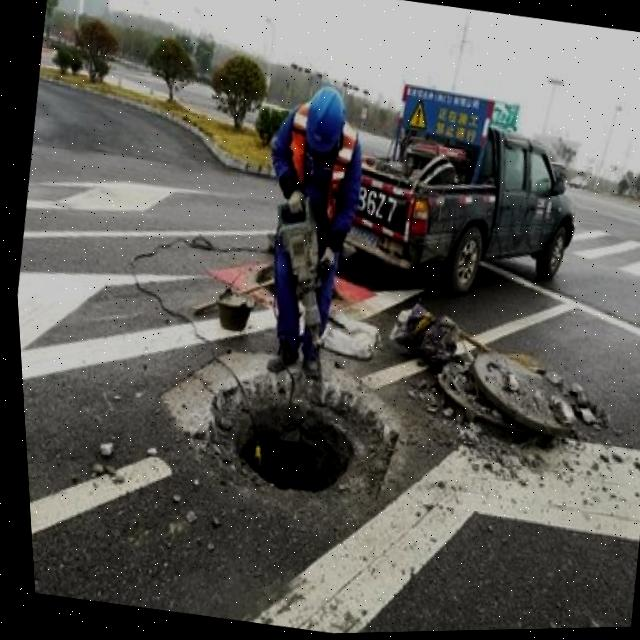manhole: (192, 352, 395, 516)
